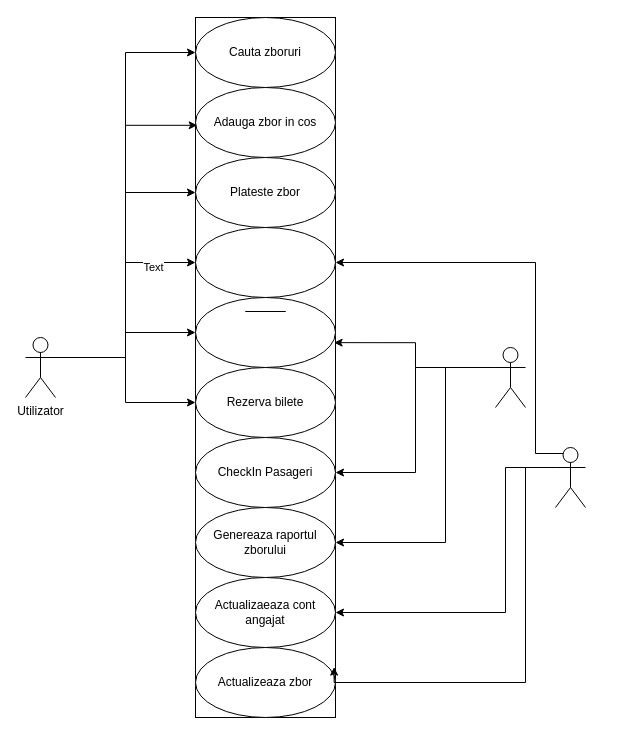
Some shapes in this 623 by 735 pixel diagram are drawn without their labels. Each missing label, with the centre of its shape:
"Administrator" goes at pixel 570 477.
"Angajat" goes at pixel 510 377.
"Autentificare" goes at pixel 265 332.
"Inregistrare" goes at pixel 265 262.
